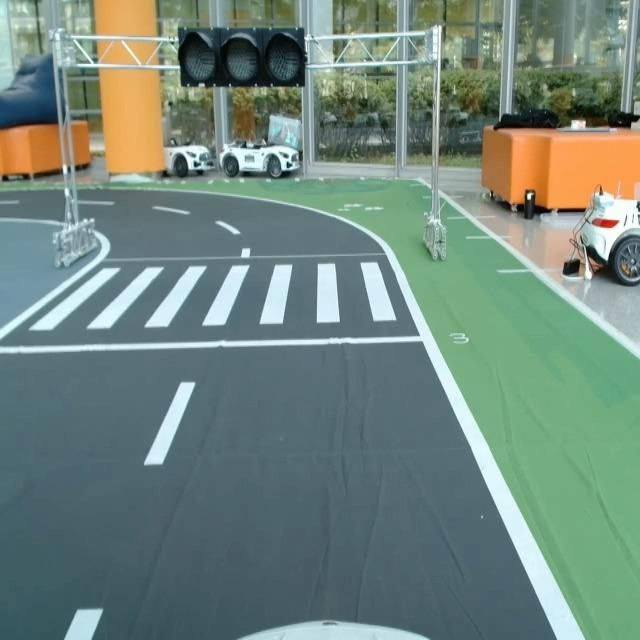traffic-light: (172, 20, 310, 90)
